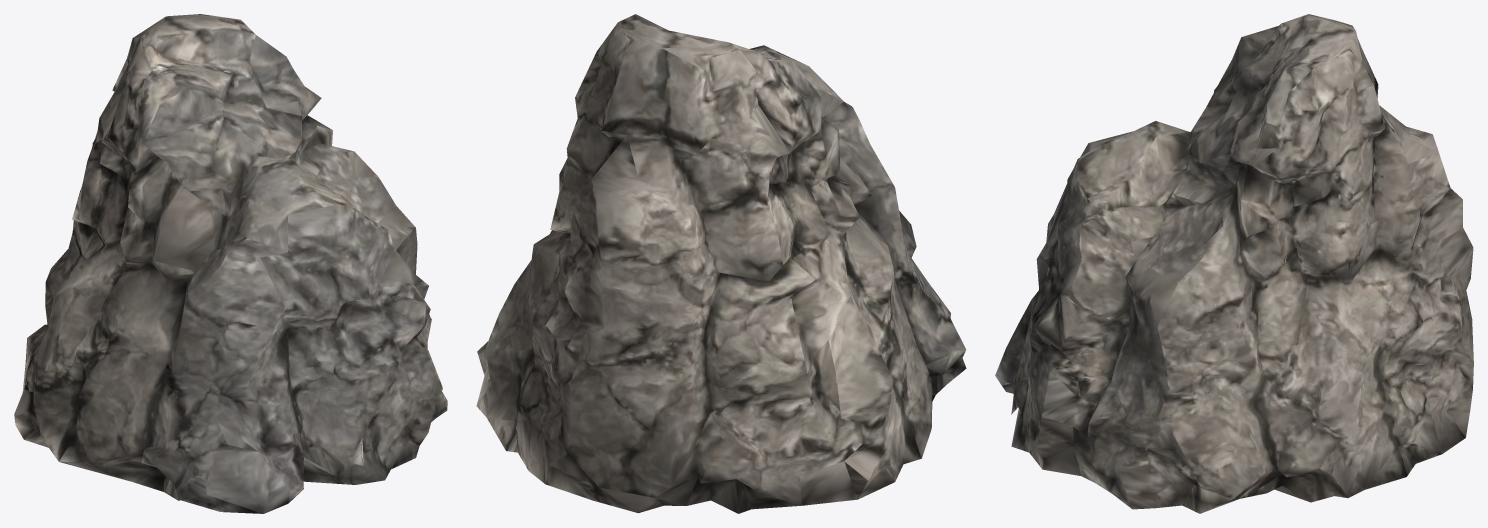
The model's file is crag_b_lod2.glb.
3 renders of one model, left to right at view 1: azimuth 30°, elevation 25°; view 2: azimuth 150°, elevation 25°; view 3: azimuth 270°, elevation 25°, orthographic. The views are drawn at different scales.
Parts seen in each view (by area): view 1: crag_b_lod2; view 2: crag_b_lod2; view 3: crag_b_lod2.
Part boxes in pixels (x1,y1,x2,y2): crag_b_lod2: [14, 14, 447, 513]; crag_b_lod2: [476, 14, 966, 513]; crag_b_lod2: [995, 14, 1473, 513].
Bounding box in the file's own units: 59.89 × 58.02 × 65.
Materials: 1 (1 with a texture image).
